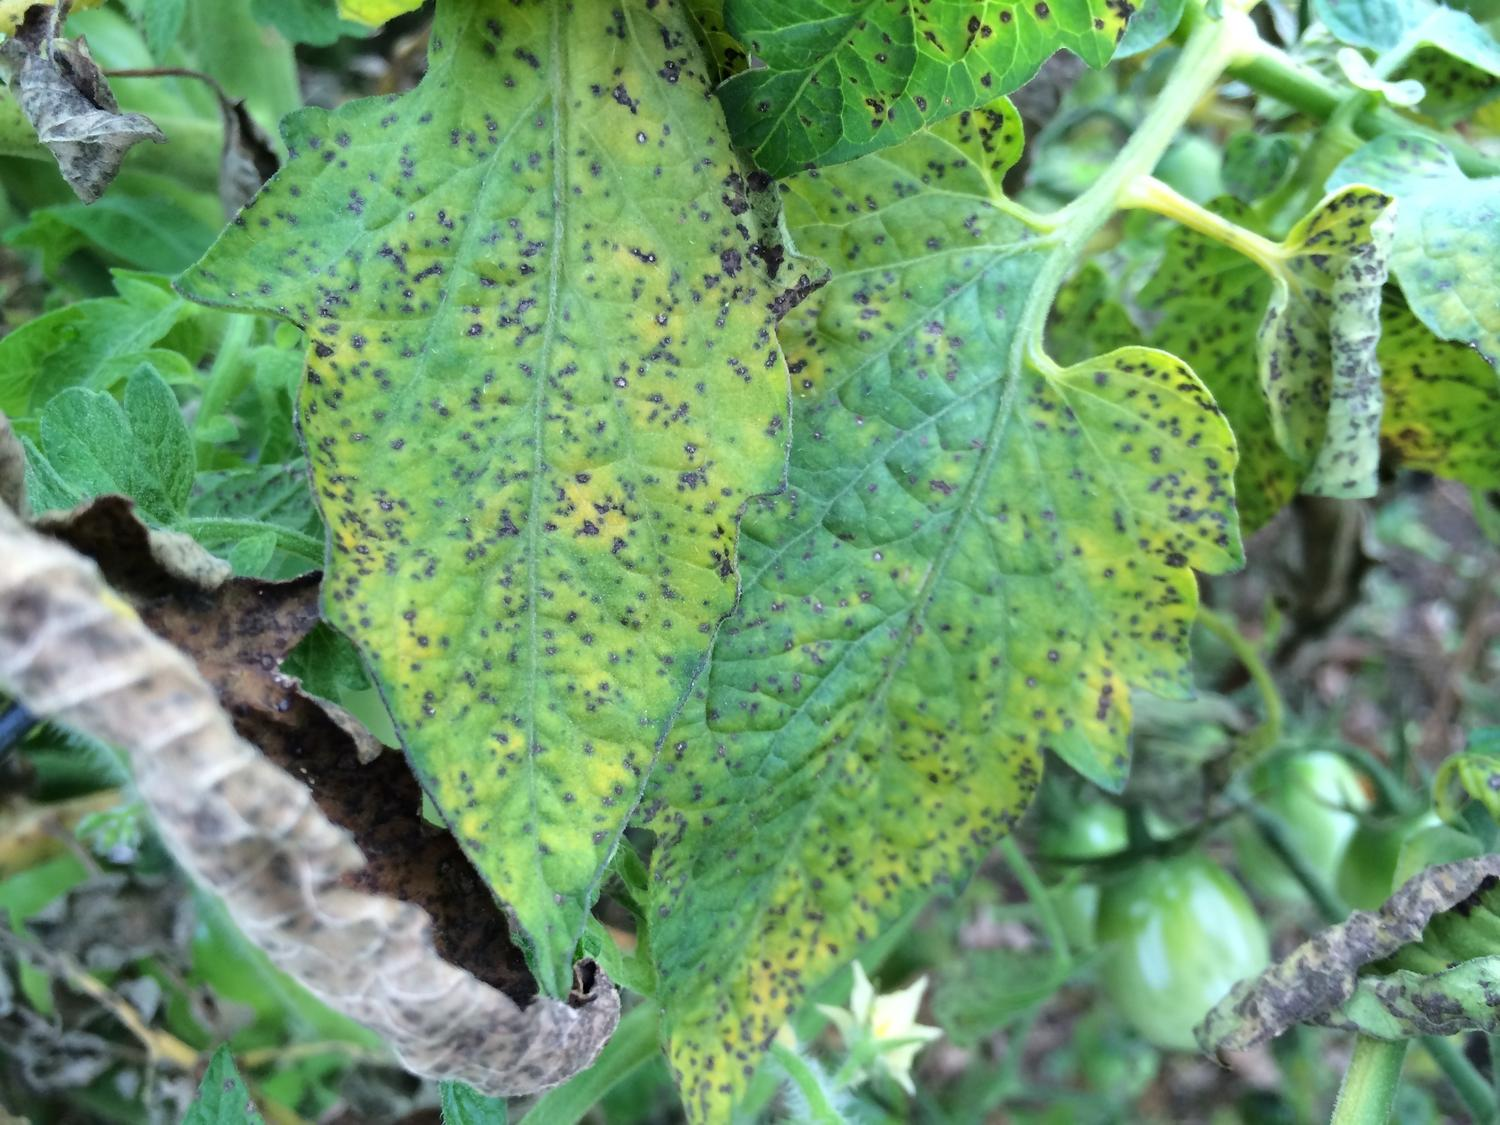Tomato Septoria leaf spot: (612, 143, 1318, 1097), (231, 10, 795, 1038)
